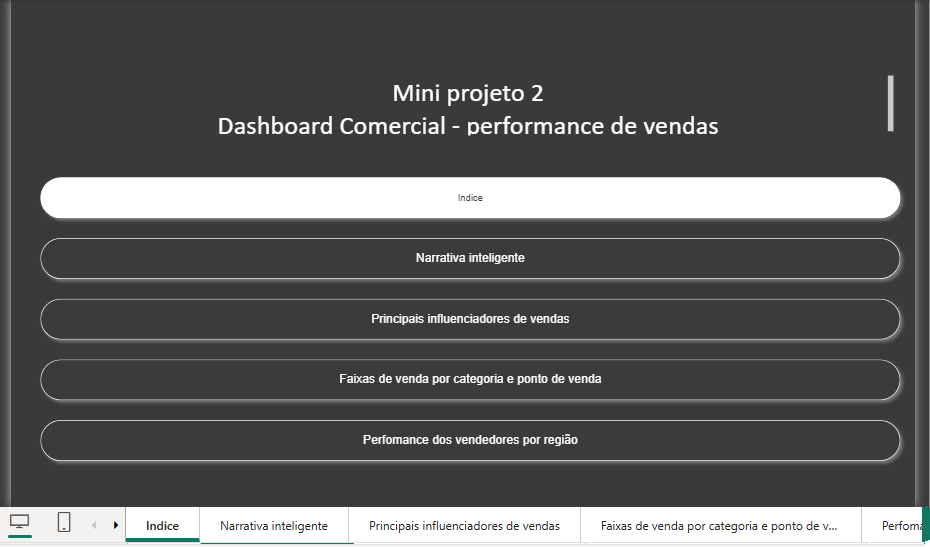

The dashboard page shown, as its layout file describes it:
{"tool":"powerbi","page":{"name":"Indice","canvas":[1280,720],"ordinal":0},"visuals":[{"type":"pageNavigator","box":[32.6,243.8,1237.3,422.4],"z":0},{"type":"textbox","box":[46.8,103.5,1209,95],"z":1000}]}

Visuals, with their boxes on the page's 1280x720 design canvas (x1, y1, x2, y2). These are canvas units, not pixel positions in the 930x547 screenshot, which may show the page scaled, cropped or inside an application window:
pageNavigator: <bbox>33, 244, 1270, 666</bbox>
textbox: <bbox>47, 104, 1256, 198</bbox>
